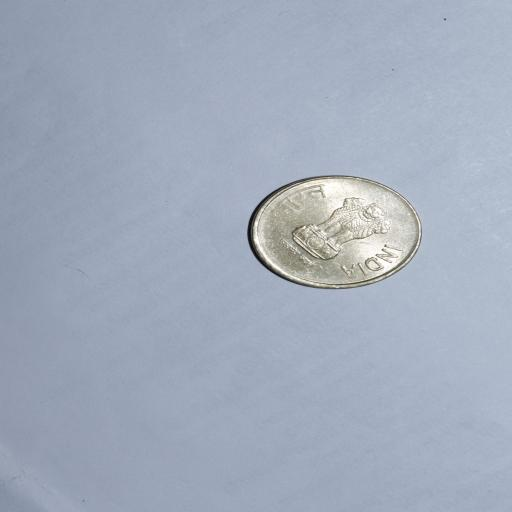rupee5: (247, 175, 420, 288)
